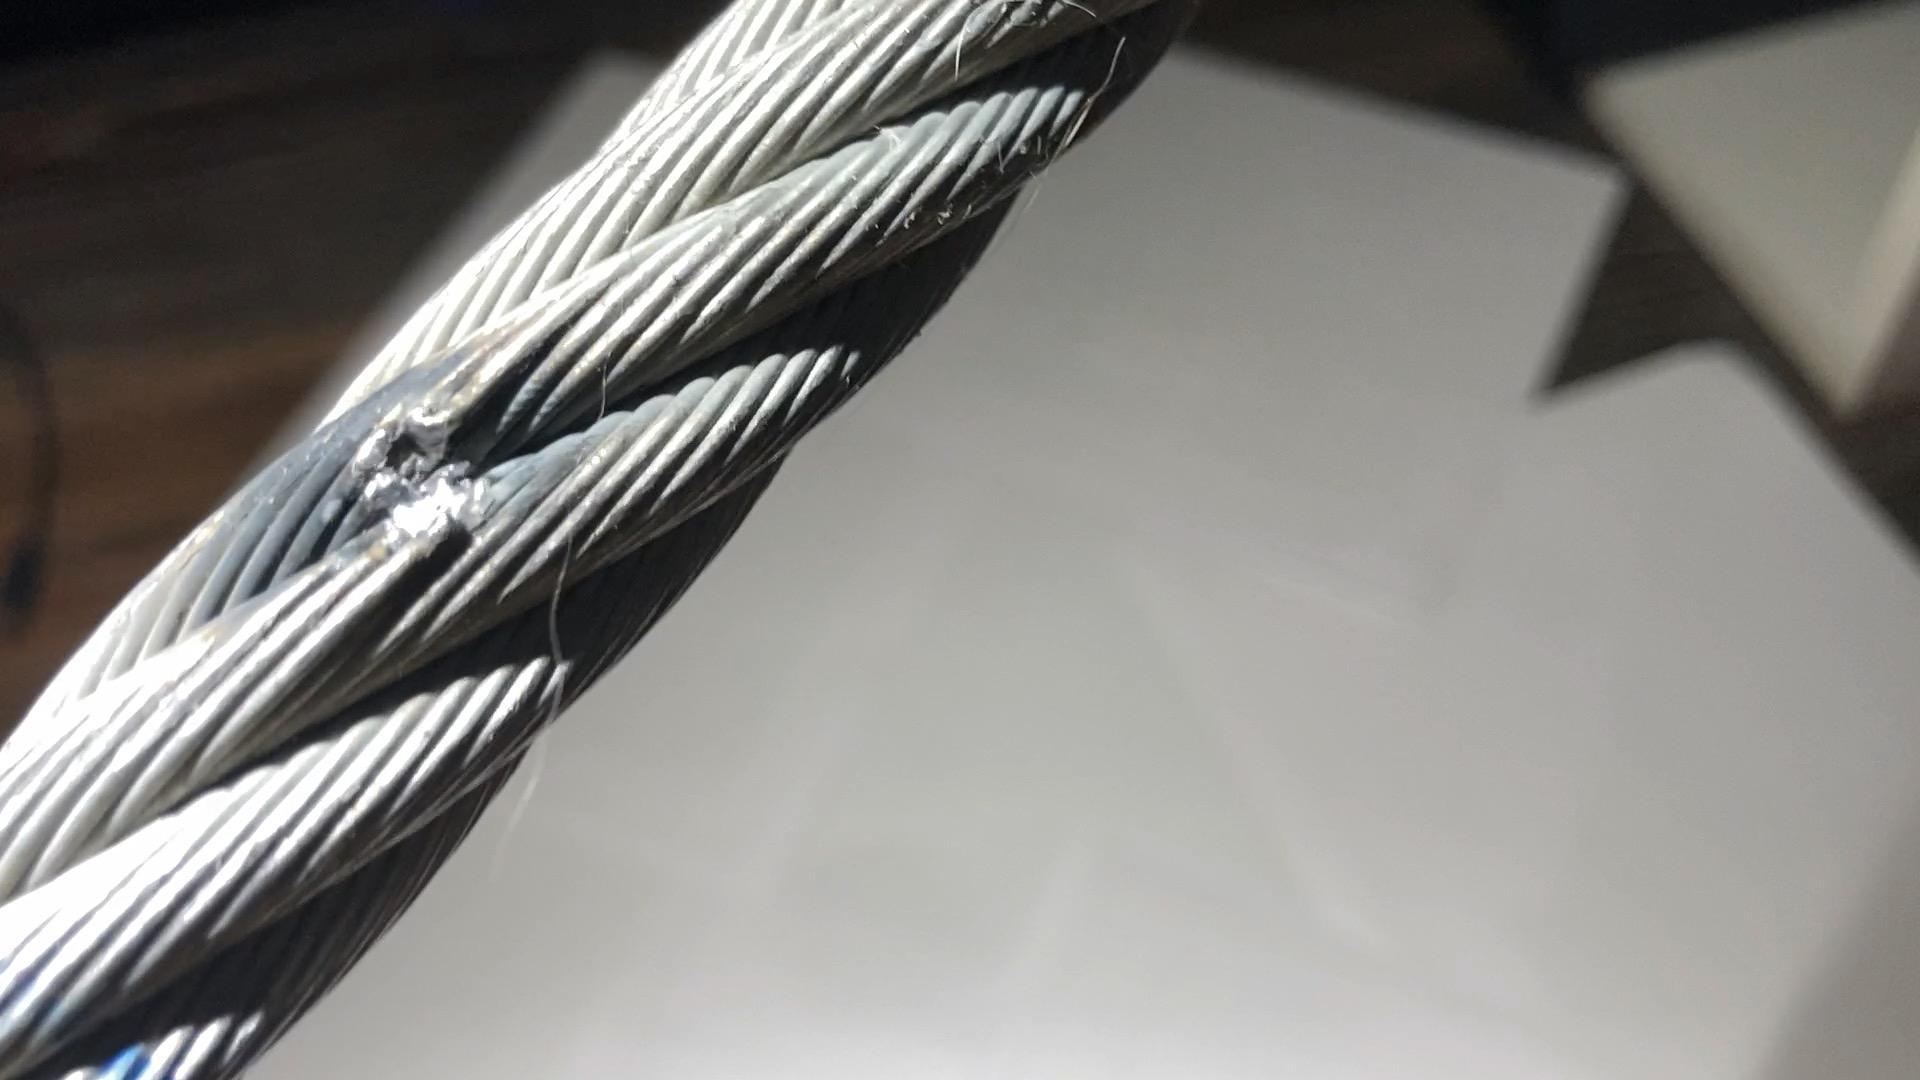thunderbolt: (311, 407, 504, 534)
